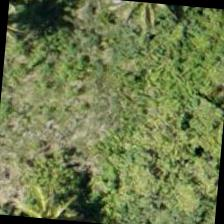Kelapa_Sawit: (4, 0, 61, 69)
